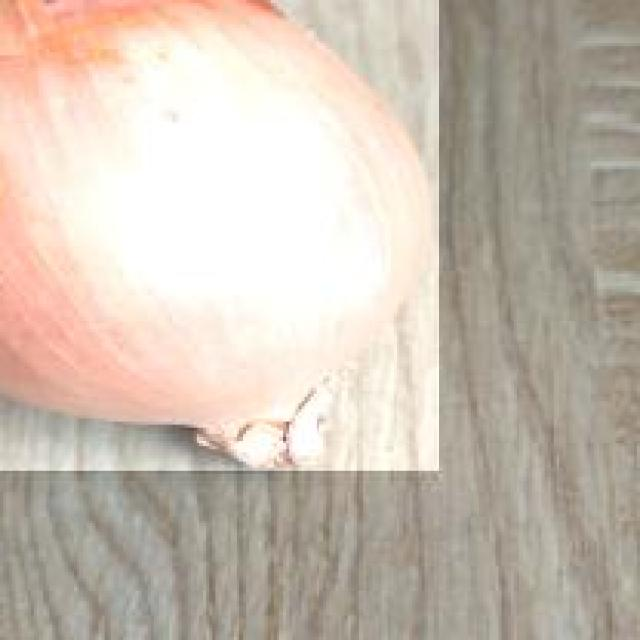onion: (0, 0, 443, 474)
